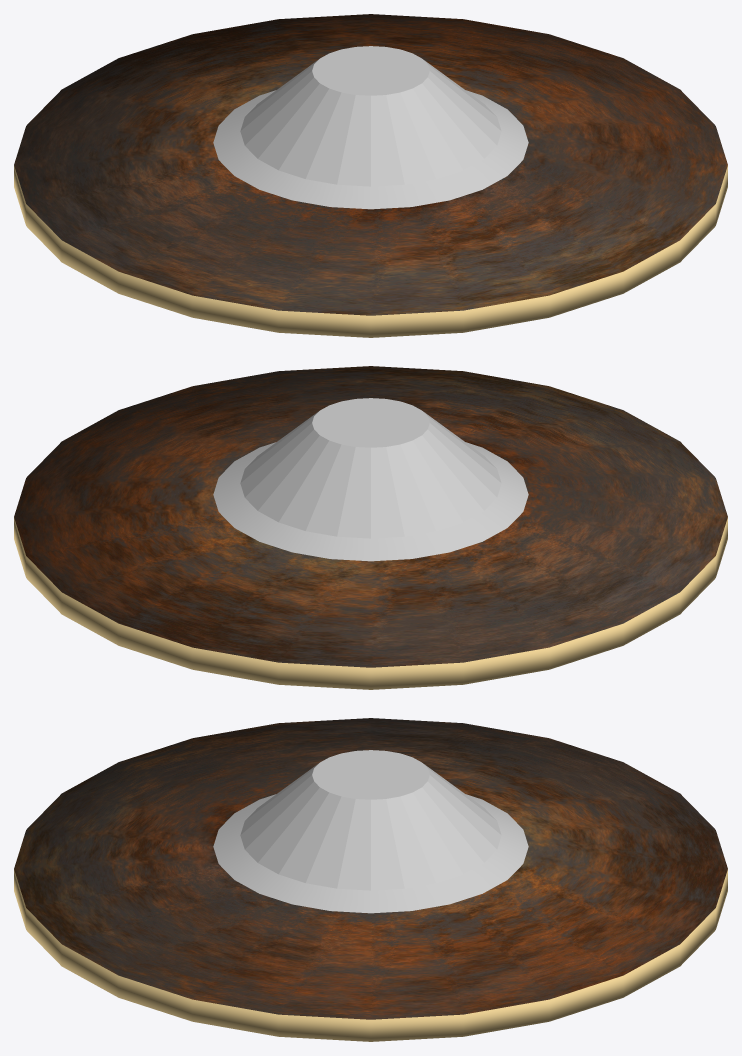
File: ufo1.FBX
3 views of the same model, one above another, from view 1: azimuth 30°, elevation 25°; view 2: azimuth 150°, elevation 25°; view 3: azimuth 270°, elevation 25° (orthographic).
Visible parts, largest first — view 1: Cylinder001; view 2: Cylinder001; view 3: Cylinder001.
Boxes of the visible parts, x1,y1,x2,y2 form: Cylinder001: [14, 14, 727, 337]; Cylinder001: [14, 366, 727, 689]; Cylinder001: [14, 718, 727, 1041].
Bounding box in the file's own units: 97.18 × 21.78 × 97.18.
